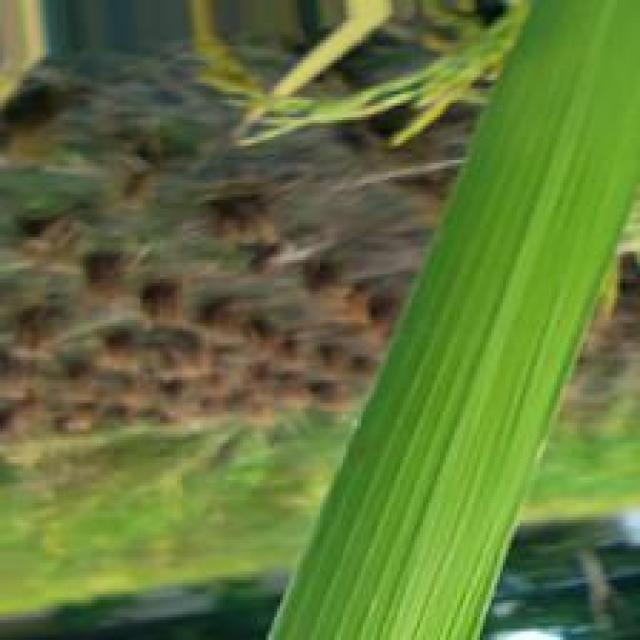HealthyLeaf: (285, 24, 637, 635)
